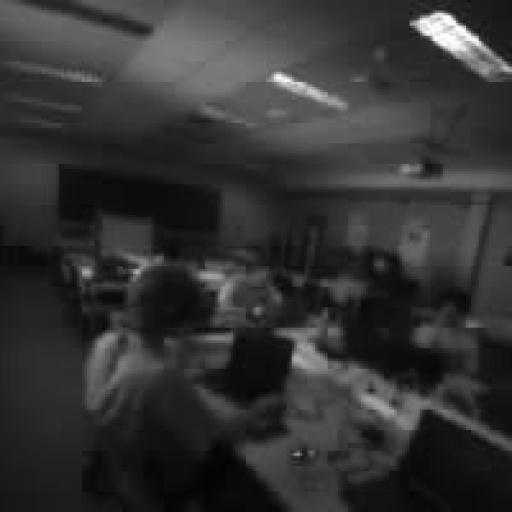human: (85, 264, 281, 509), (413, 292, 478, 376), (218, 251, 284, 317)
